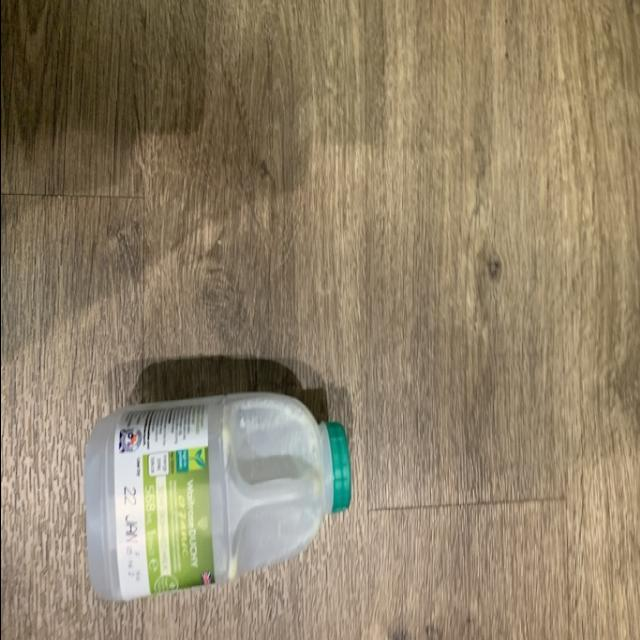HDPEM: (82, 389, 360, 605)
